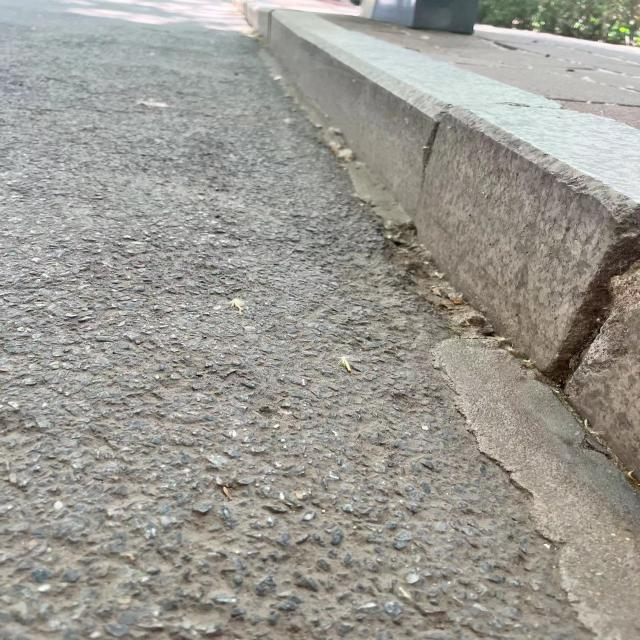curb: (231, 1, 568, 233), (442, 112, 640, 488)
